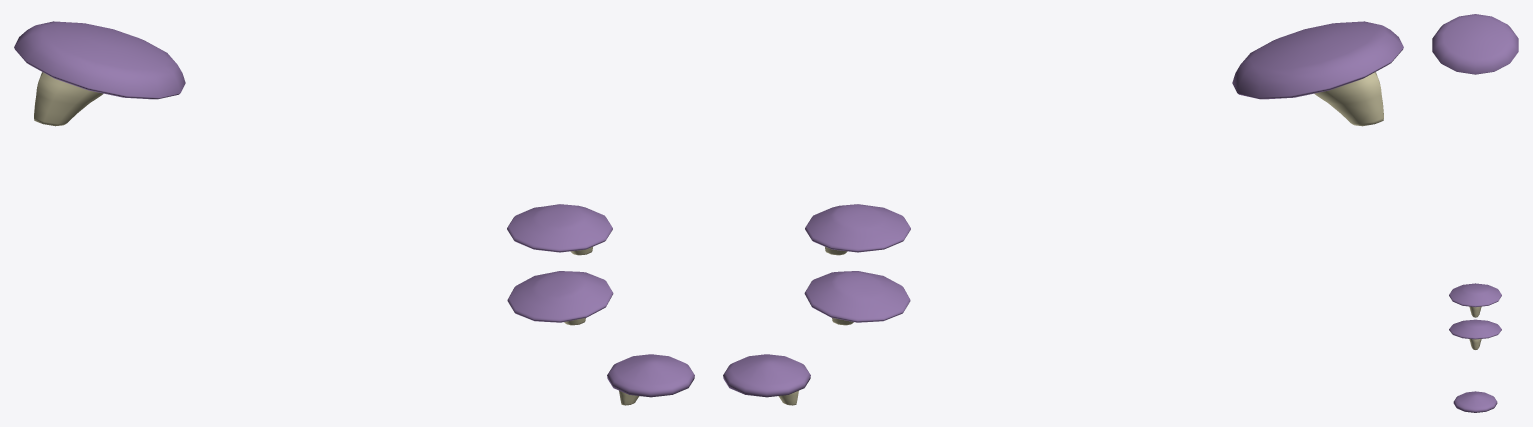
File: FlatMushrooms.fbx
The picture shows the model from 3 angles, left to right: view 1: azimuth 30°, elevation 25°; view 2: azimuth 150°, elevation 25°; view 3: azimuth 270°, elevation 25°; orthographic projection. The views are drawn at different scales.
Parts seen in each view (by area): view 1: Mushroom1, Mushroom2, Mushroom3, Mushroom; view 2: Mushroom1, Mushroom2, Mushroom3, Mushroom; view 3: Mushroom1, Mushroom3, Mushroom2, Mushroom.
Boxes of the visible parts, bbox=[...] form: Mushroom1: bbox=[14, 21, 185, 126]; Mushroom2: bbox=[507, 271, 613, 325]; Mushroom3: bbox=[507, 204, 612, 255]; Mushroom: bbox=[607, 354, 694, 405]; Mushroom1: bbox=[1232, 21, 1403, 126]; Mushroom2: bbox=[804, 271, 910, 325]; Mushroom3: bbox=[805, 204, 910, 255]; Mushroom: bbox=[723, 354, 810, 405]; Mushroom1: bbox=[1432, 14, 1518, 74]; Mushroom3: bbox=[1449, 283, 1501, 317]; Mushroom2: bbox=[1449, 319, 1501, 349]; Mushroom: bbox=[1453, 391, 1497, 412].
Size of the model in its own units: 68.49 by 49.52 by 15.49.
